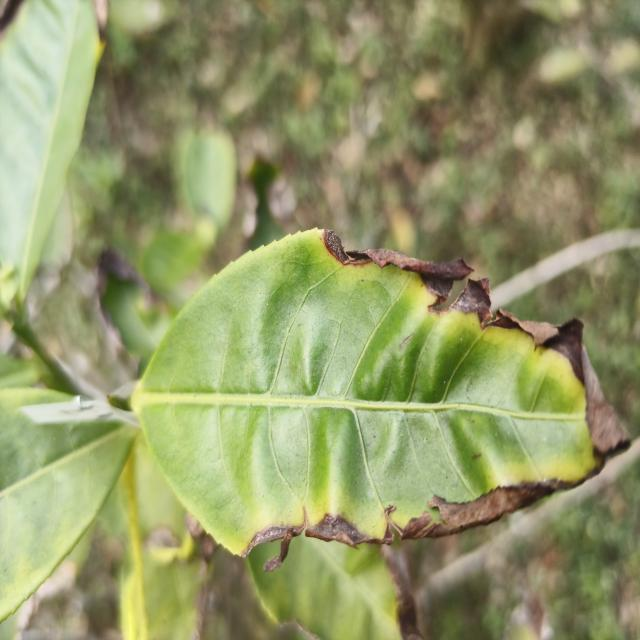Leaf: (131, 229, 628, 556), (0, 388, 138, 621), (0, 0, 100, 301), (248, 534, 422, 640), (98, 247, 170, 376), (186, 118, 237, 230)
